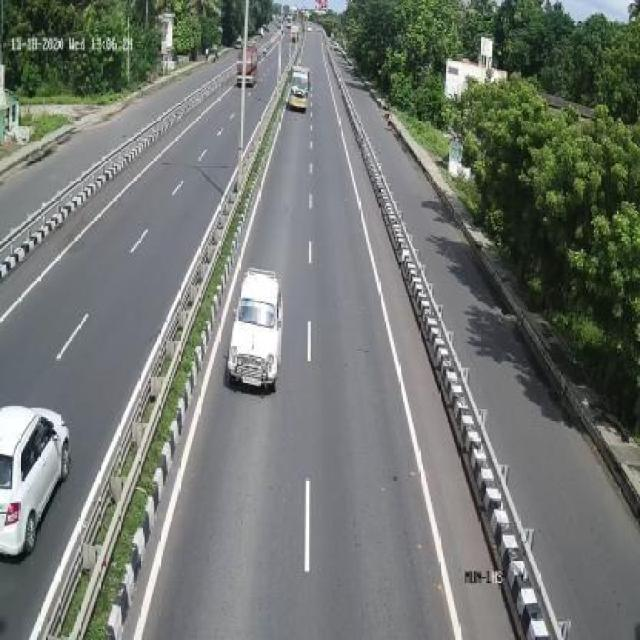car: (2, 392, 82, 572), (230, 268, 284, 395)
